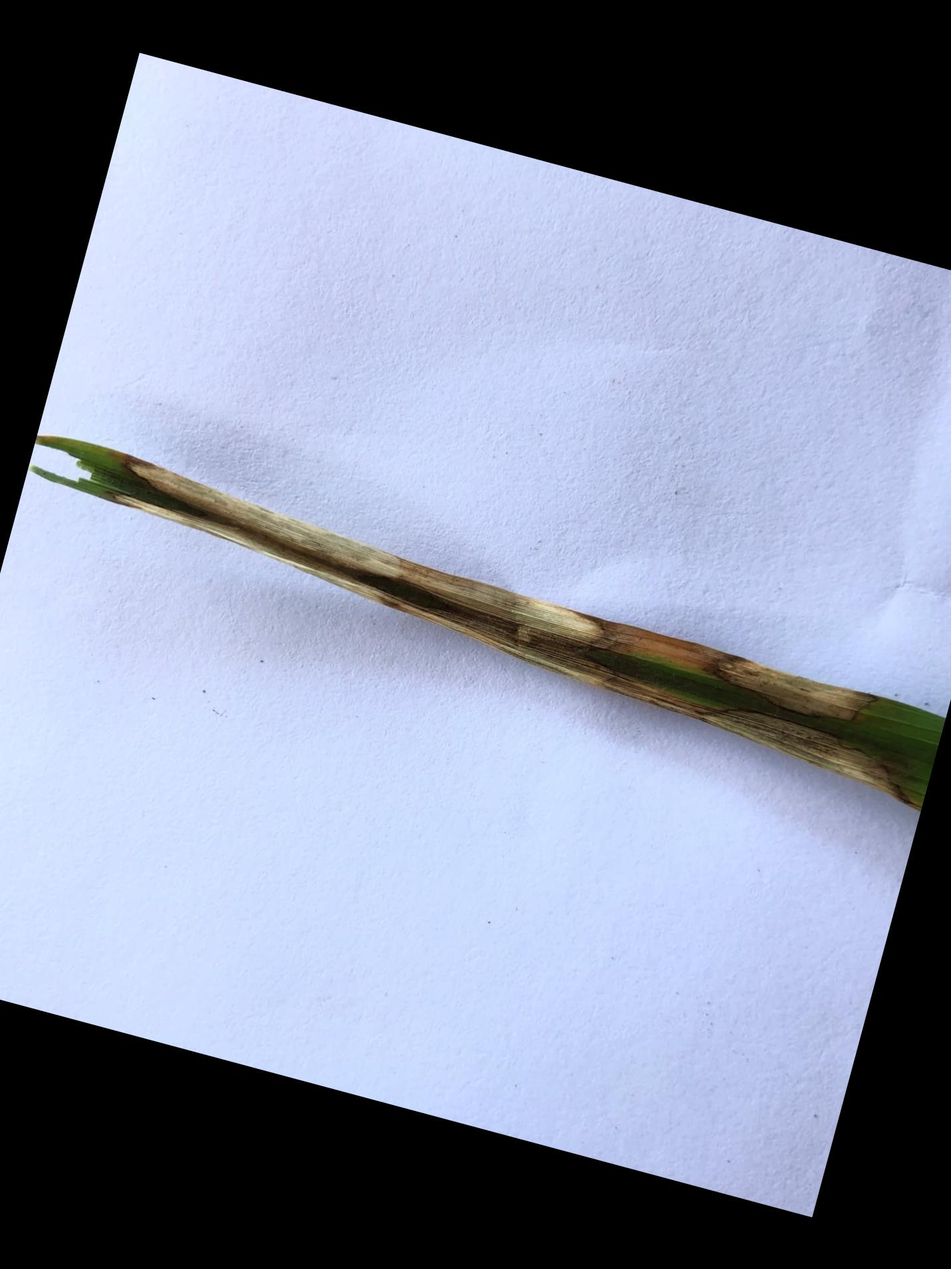Leaf Blight: (100, 448, 910, 806)
